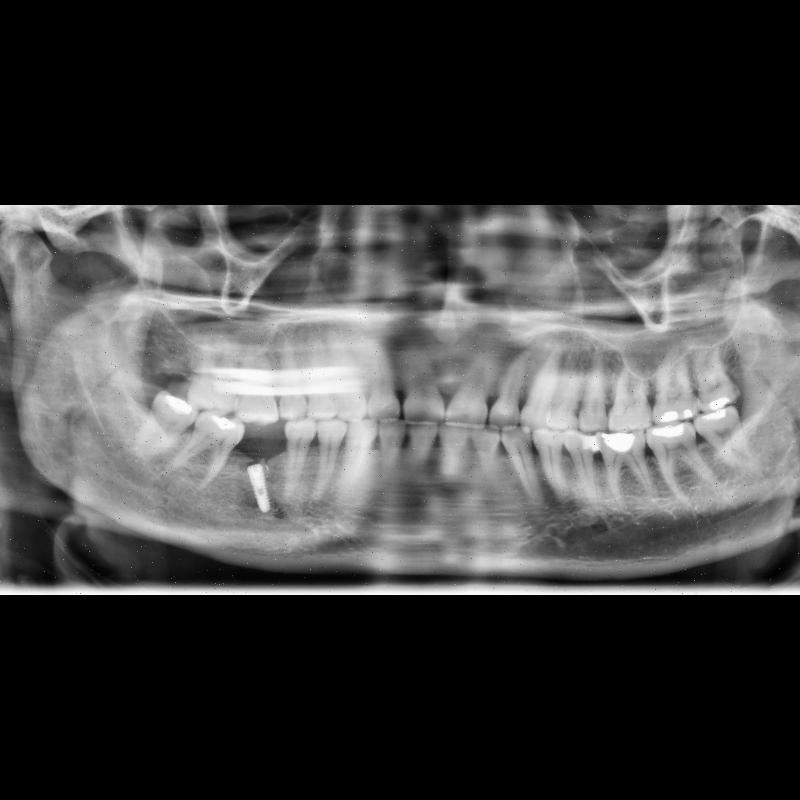osstem: (243, 460, 275, 516)
